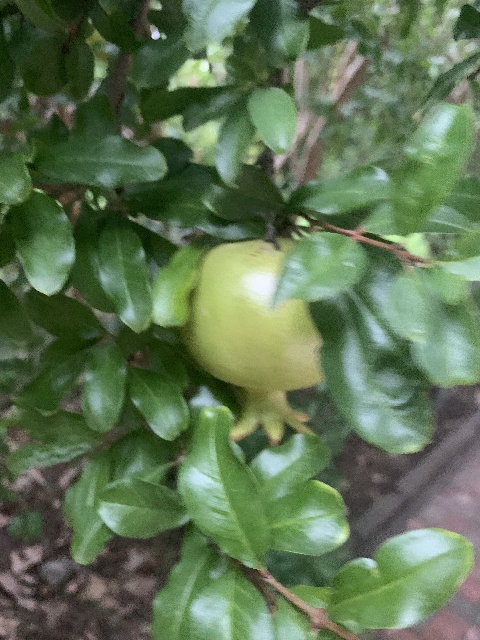mid-growth: (182, 238, 326, 446)
